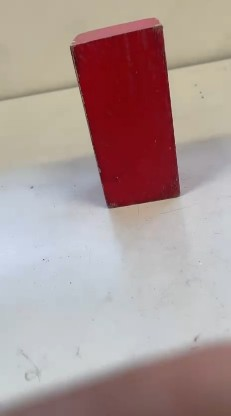red: (74, 17, 180, 210)
